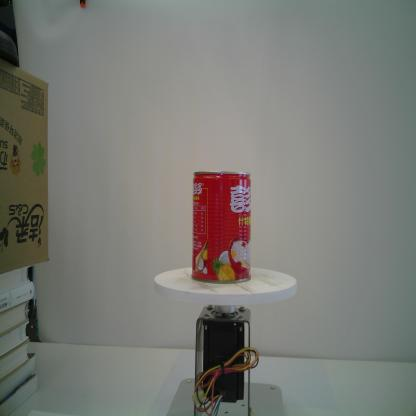Canned Food: (188, 169, 254, 284)
